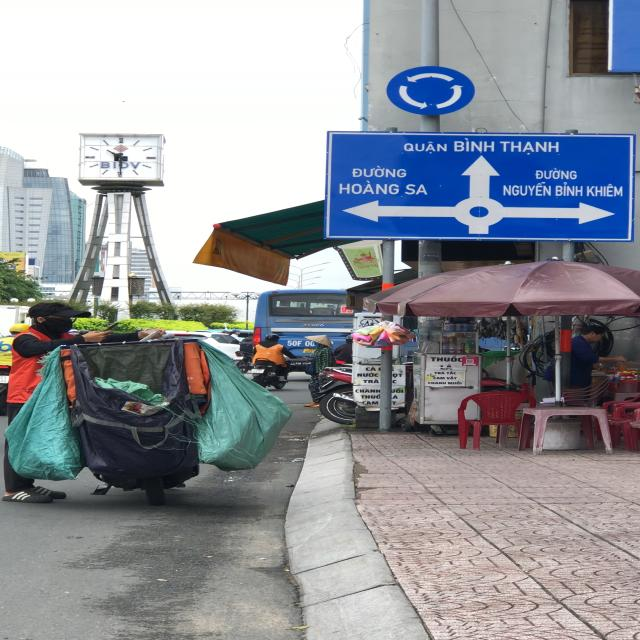Bien bao noi giao nhau chay theo vong xuyen: (380, 66, 482, 119)
